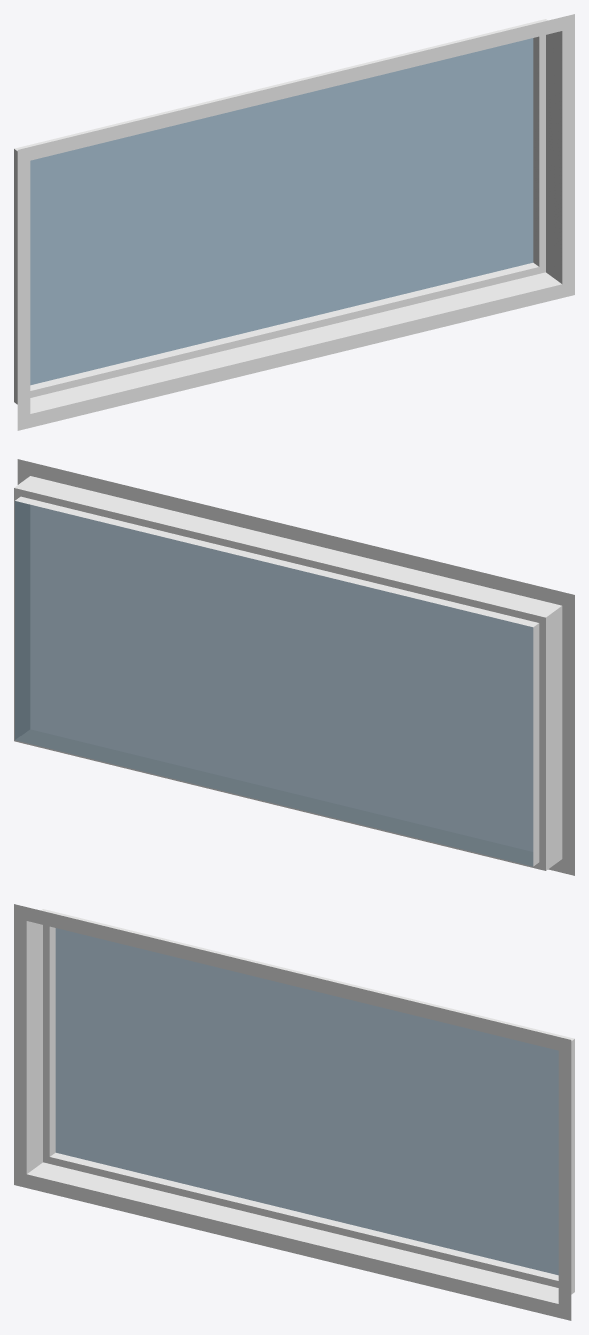
The model's file is p3-window-stairs-horizontal.fbx.
The picture shows the model from 3 angles, top to bottom: view 1: azimuth 30°, elevation 25°; view 2: azimuth 150°, elevation 25°; view 3: azimuth 330°, elevation 25°; orthographic projection.
Visible parts, largest first — view 1: p3-window-stairs-horizontal; view 2: p3-window-stairs-horizontal; view 3: p3-window-stairs-horizontal.
Boxes of the visible parts, x1,y1,x2,y2 form: p3-window-stairs-horizontal: [14, 14, 574, 430]; p3-window-stairs-horizontal: [14, 459, 574, 875]; p3-window-stairs-horizontal: [14, 904, 574, 1320].
Size of the model in its own units: 184 by 88.87 by 12.75.
